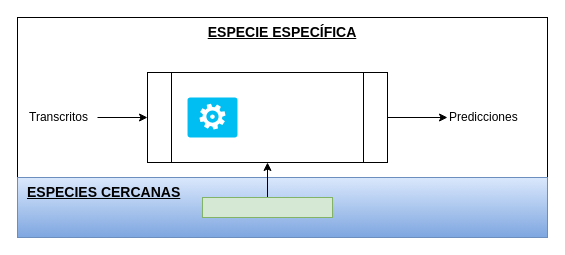
This 565x255 diagram has some shape labels left out. The shapes that lost their labels are listed below. From the top down, each one's box as (x1, y1, x2, y2) in pixels, then its label:
(146, 72, 388, 162): Métodos de aprendizaje de máquina
(202, 196, 332, 218): Secuencias conocidas
